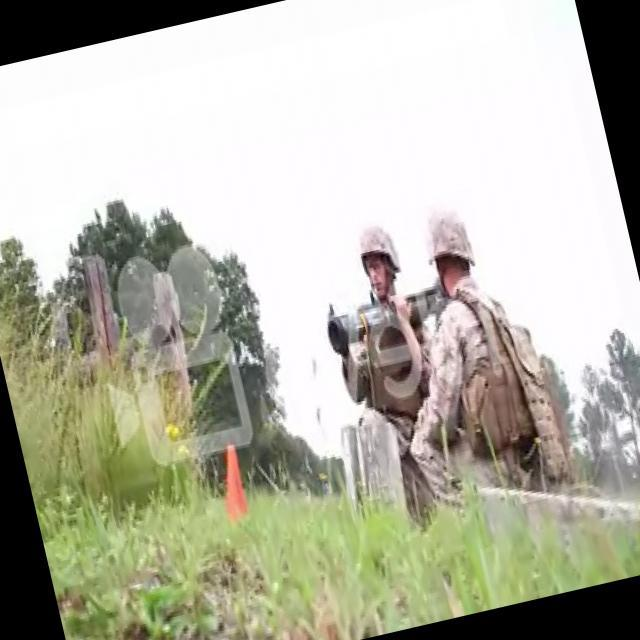rocket: (322, 286, 441, 358)
